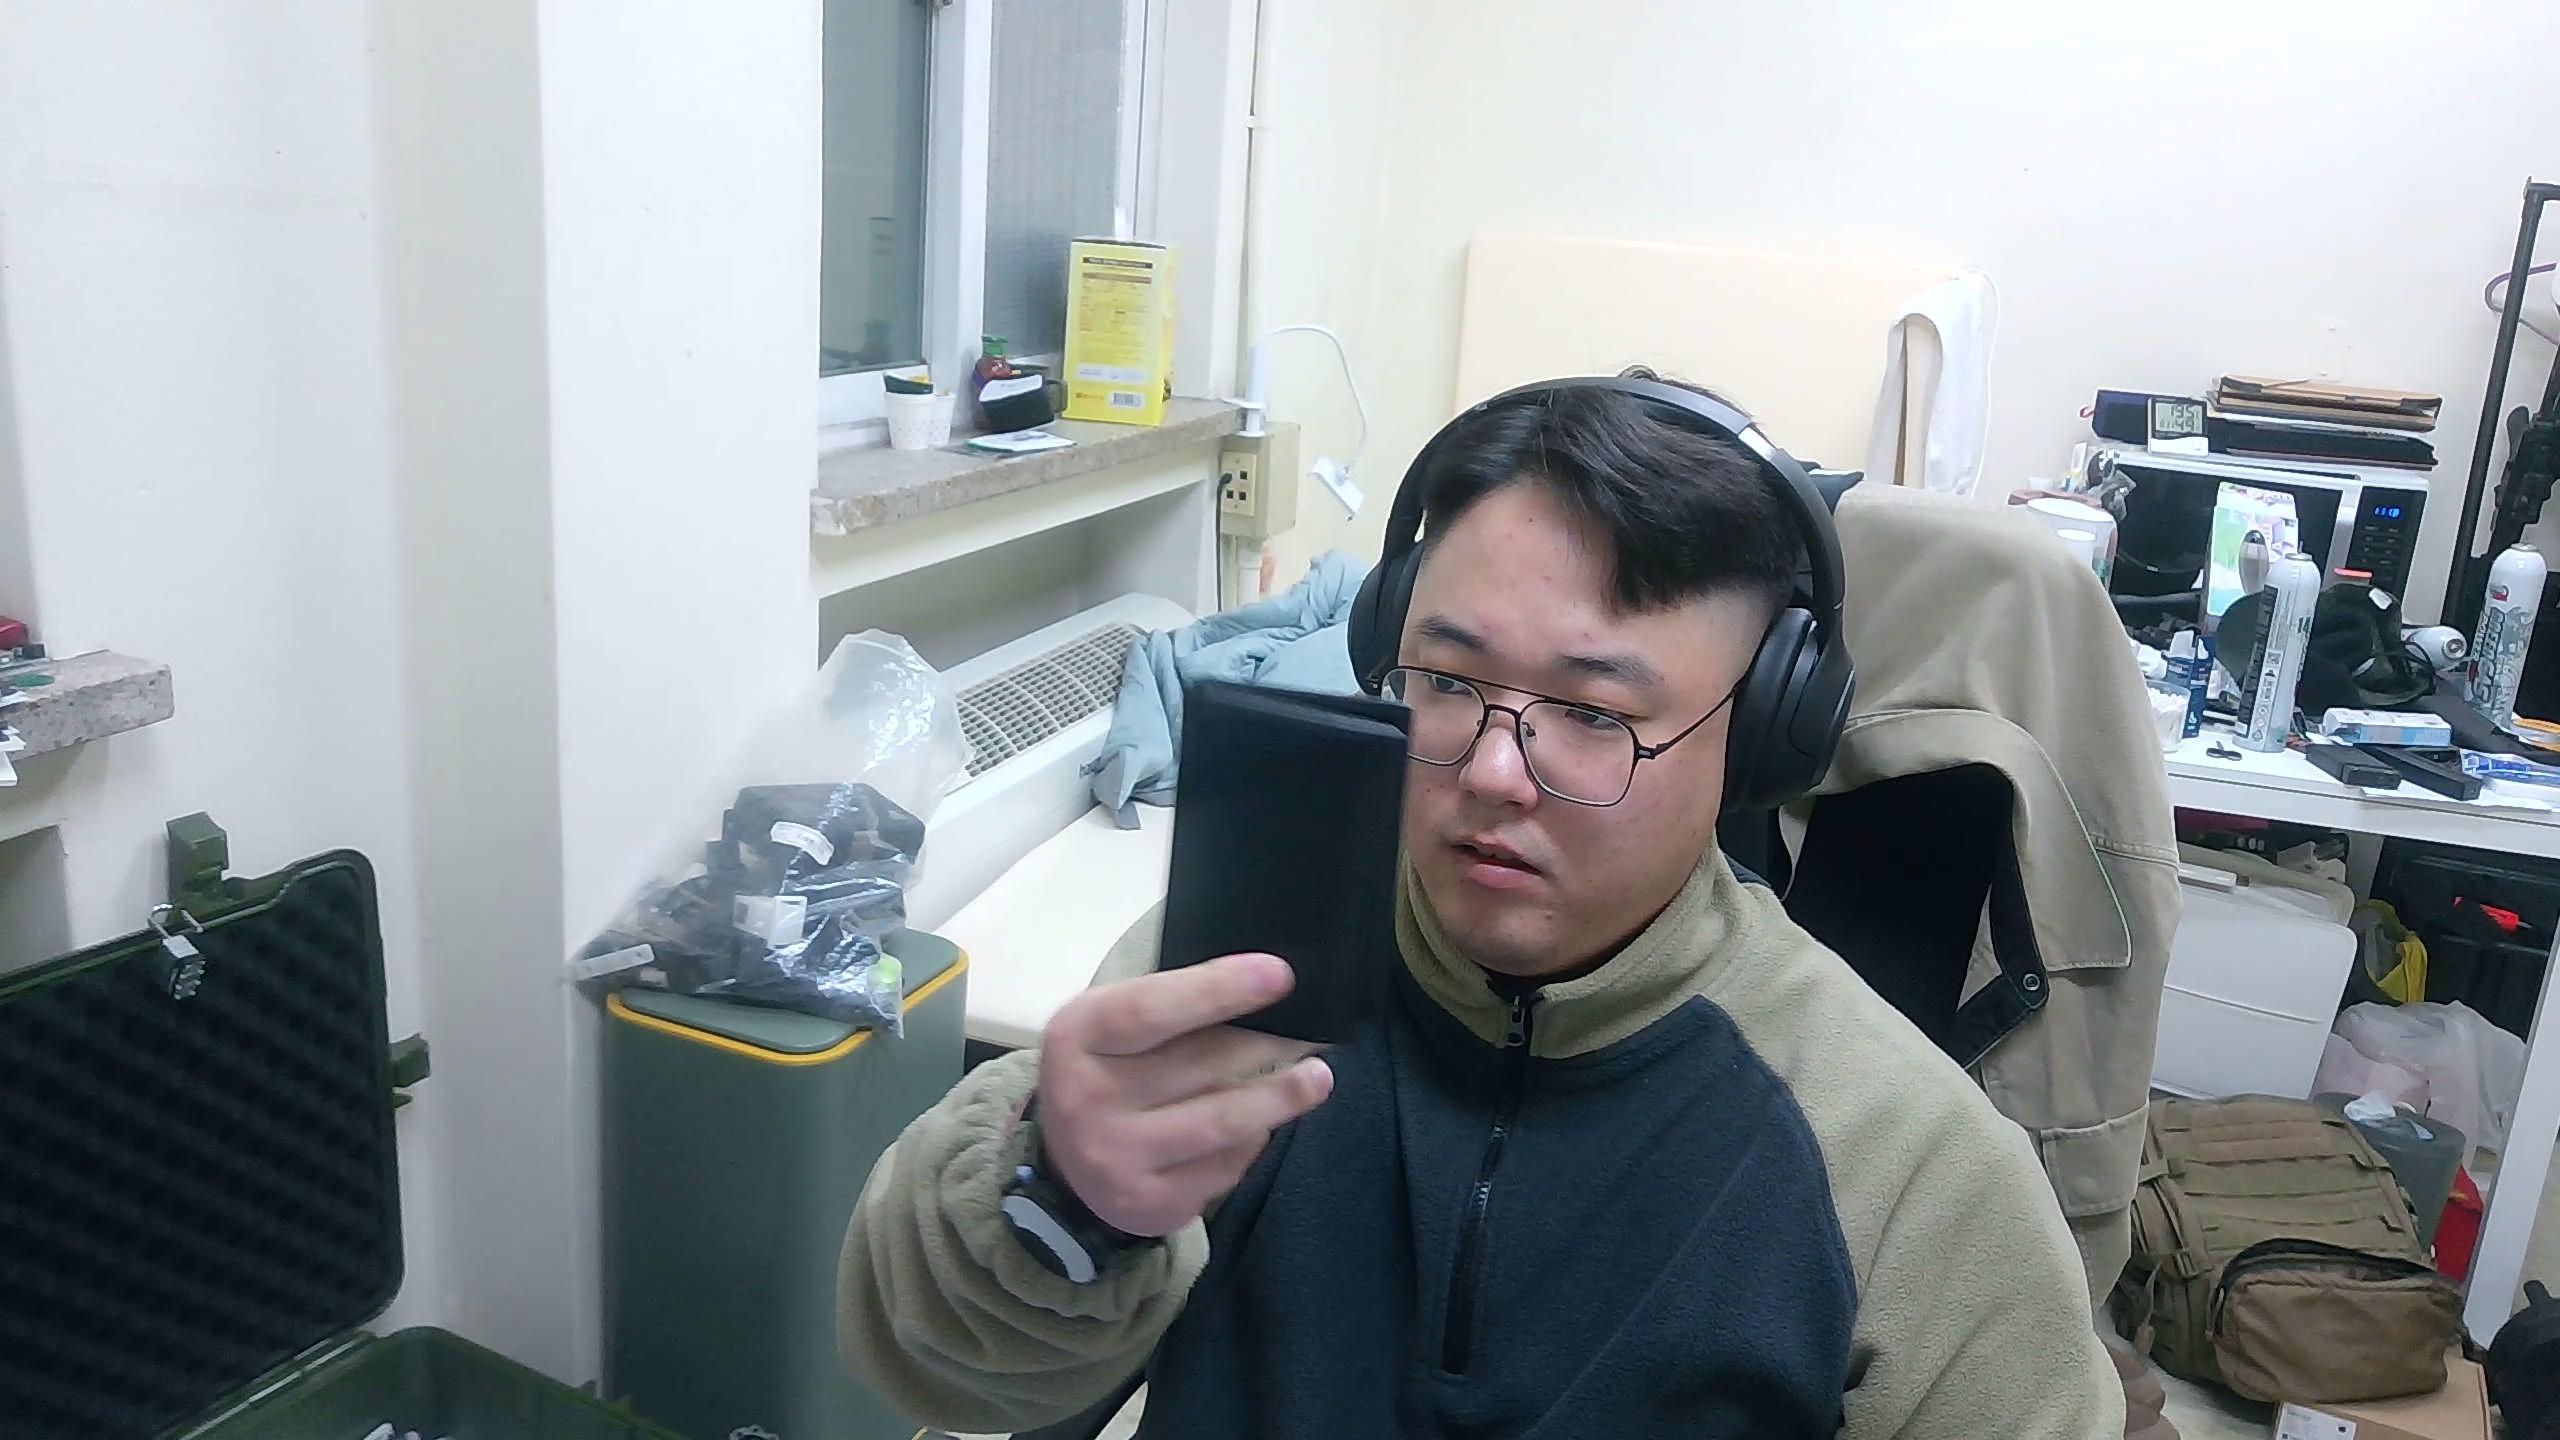earphone: (1159, 675, 1414, 1050)
